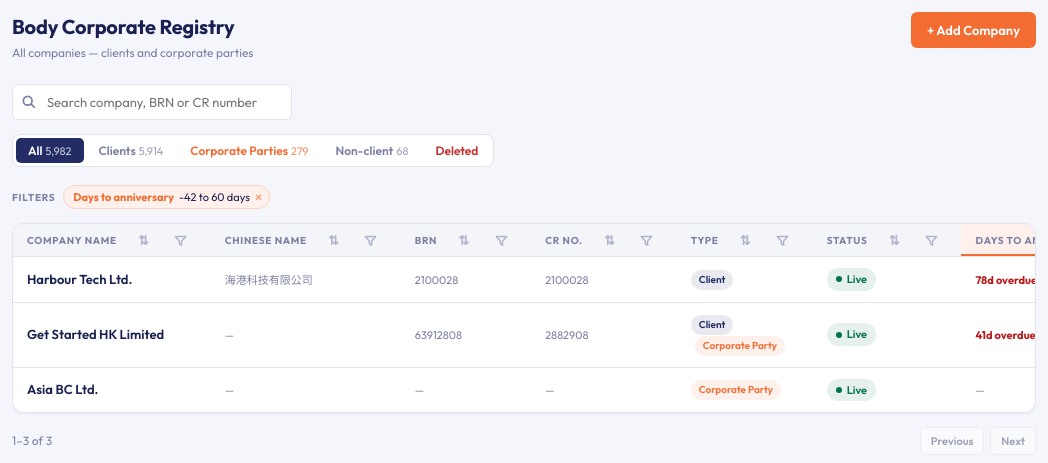
CompanyRegistryPage — the Deleted tab (migration 049) › goes back to the live list from any other tab
Click the tab "Deleted" at [457, 150], box [424,138,490,163]
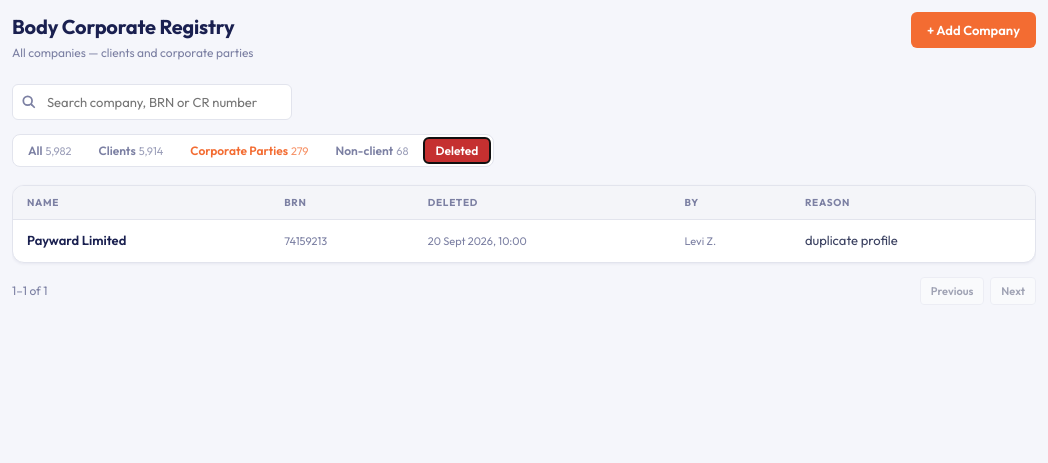
Now the text "Payward Limited" is shown, box [27,232,126,248]
Click the tab "All5,982" at [50, 150], box [16,138,84,163]
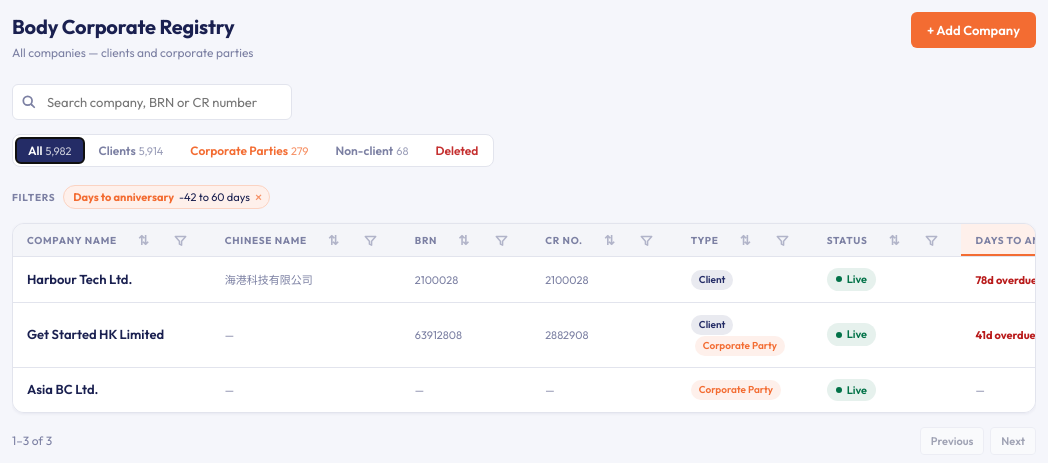
Now the text "Harbour Tech Ltd." is shown, box [27,270,132,286]
